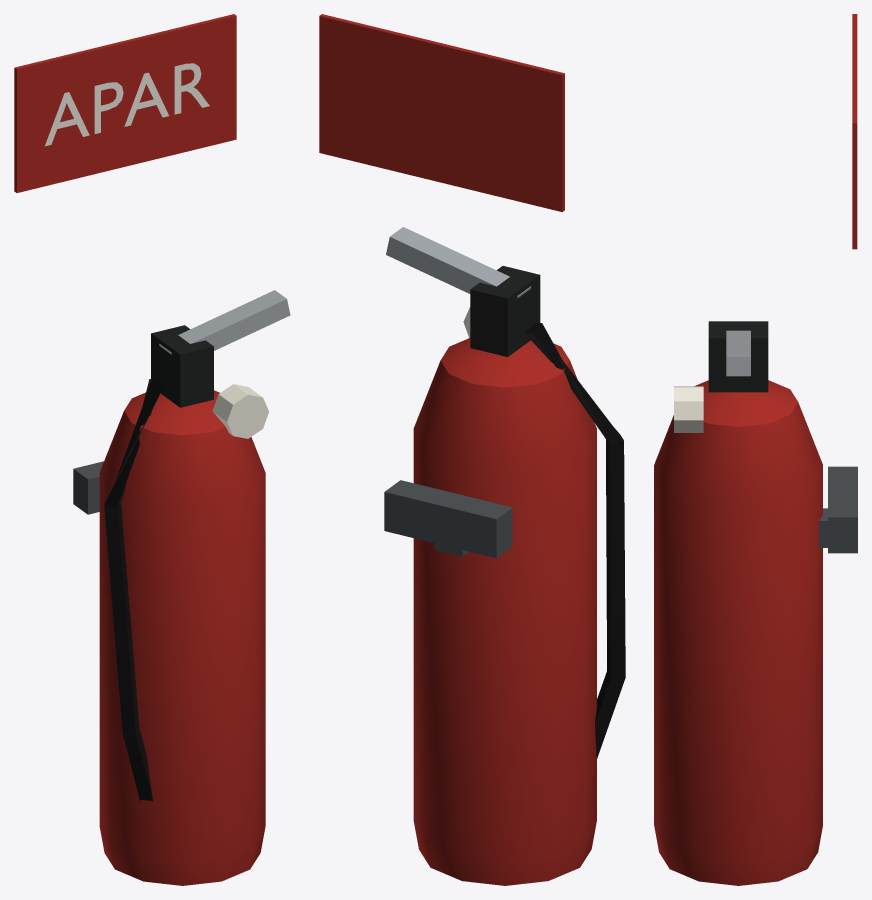
Rendered from fire_extinguisher.glb.
3 renders of one model, left to right at view 1: azimuth 30°, elevation 25°; view 2: azimuth 150°, elevation 25°; view 3: azimuth 270°, elevation 25°, orthographic. The views are drawn at different scales.
Visible parts, largest first — view 1: APAR; view 2: APAR; view 3: APAR.
Part boxes in pixels (bbox=[...]): APAR: bbox=[14, 14, 290, 885]; APAR: bbox=[319, 14, 625, 885]; APAR: bbox=[654, 14, 857, 885].
Size of the model in its own units: 0.26 by 0.87 by 0.205.
